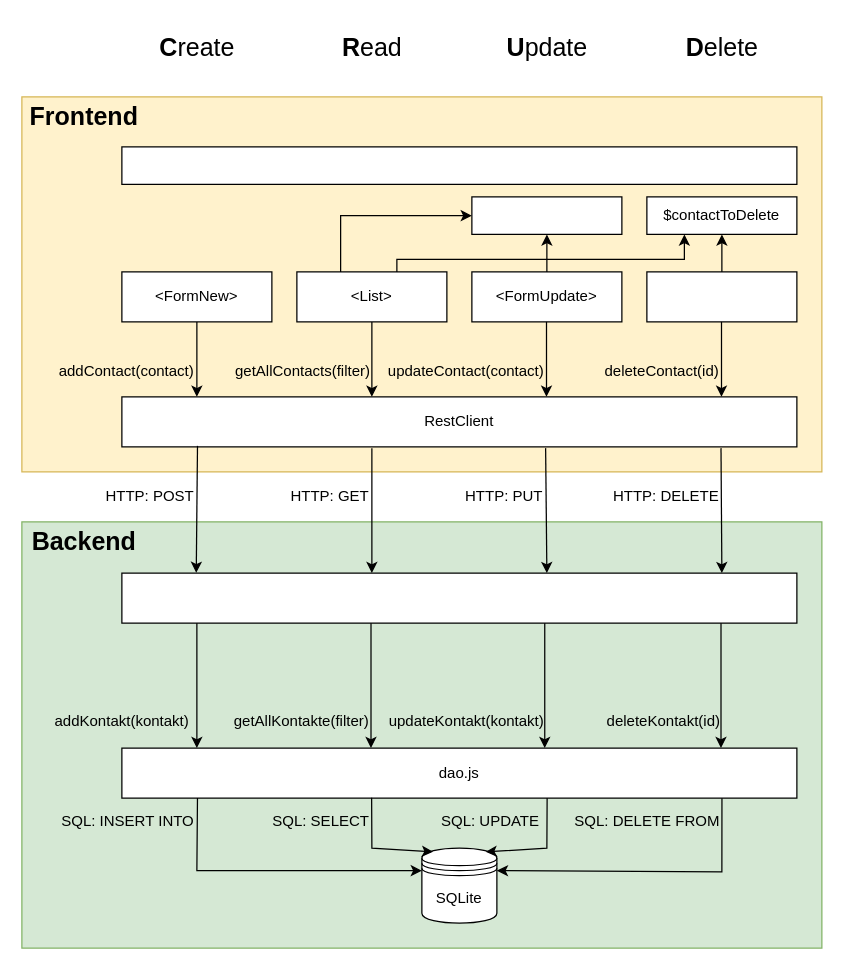
The diagram is 844 pixels wide and 970 high, and some of its shapes have lost their labels. Each missing label, with the box of its shape:
$contactToUpdate: (471, 196, 622, 234)
$visibleComponent: (121, 146, 797, 184)
<ConfirmDelete>: (646, 271, 797, 322)
restapi.js: (121, 572, 797, 623)
